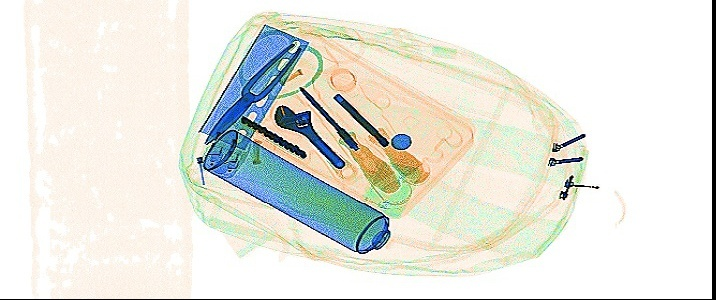lighter: (225, 111, 253, 172), (203, 105, 227, 165)
pressure: (200, 128, 394, 255)
scissors: (200, 29, 323, 143)
